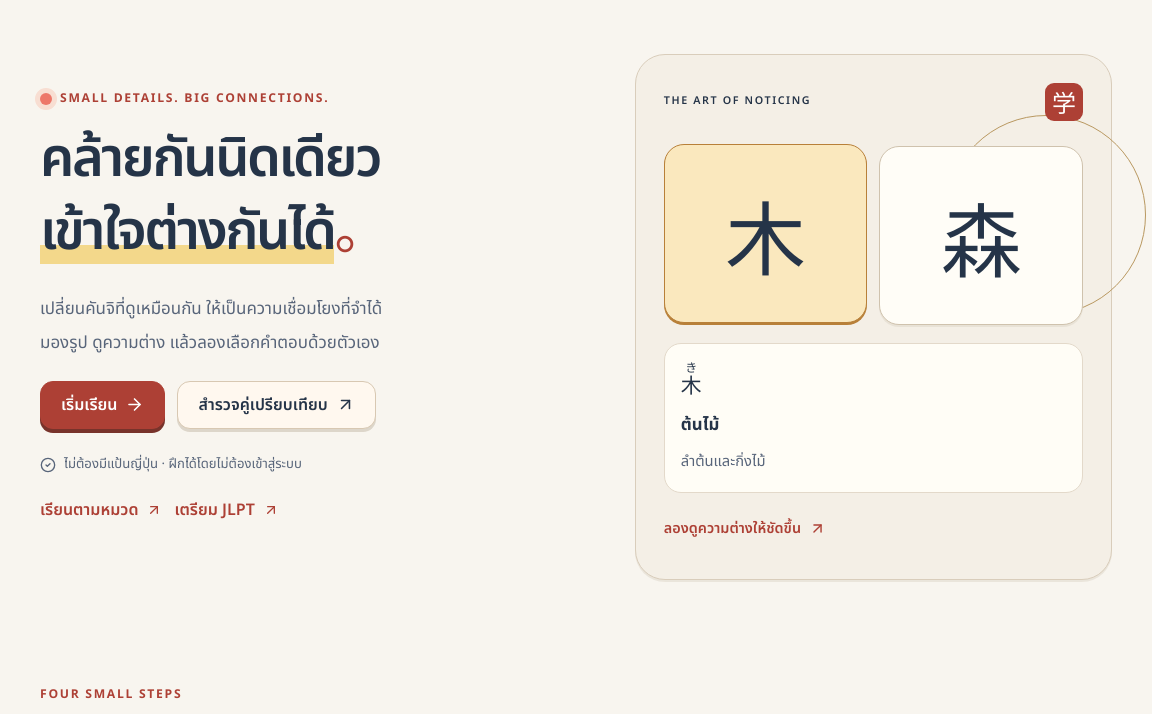
Test case: previews actual authorized comparison cards with clickable readings
Click the button "森" at [981, 236], box [879,146,1083,325]
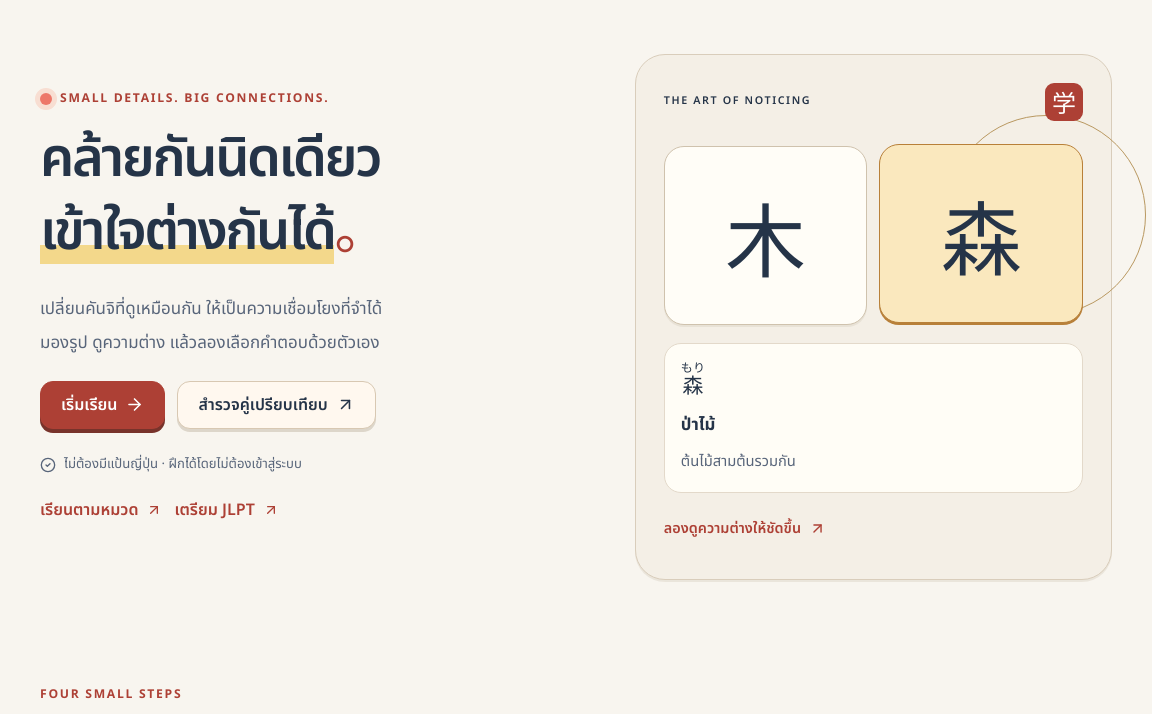
Now the text "もり" is shown, box [681,358,705,375]
